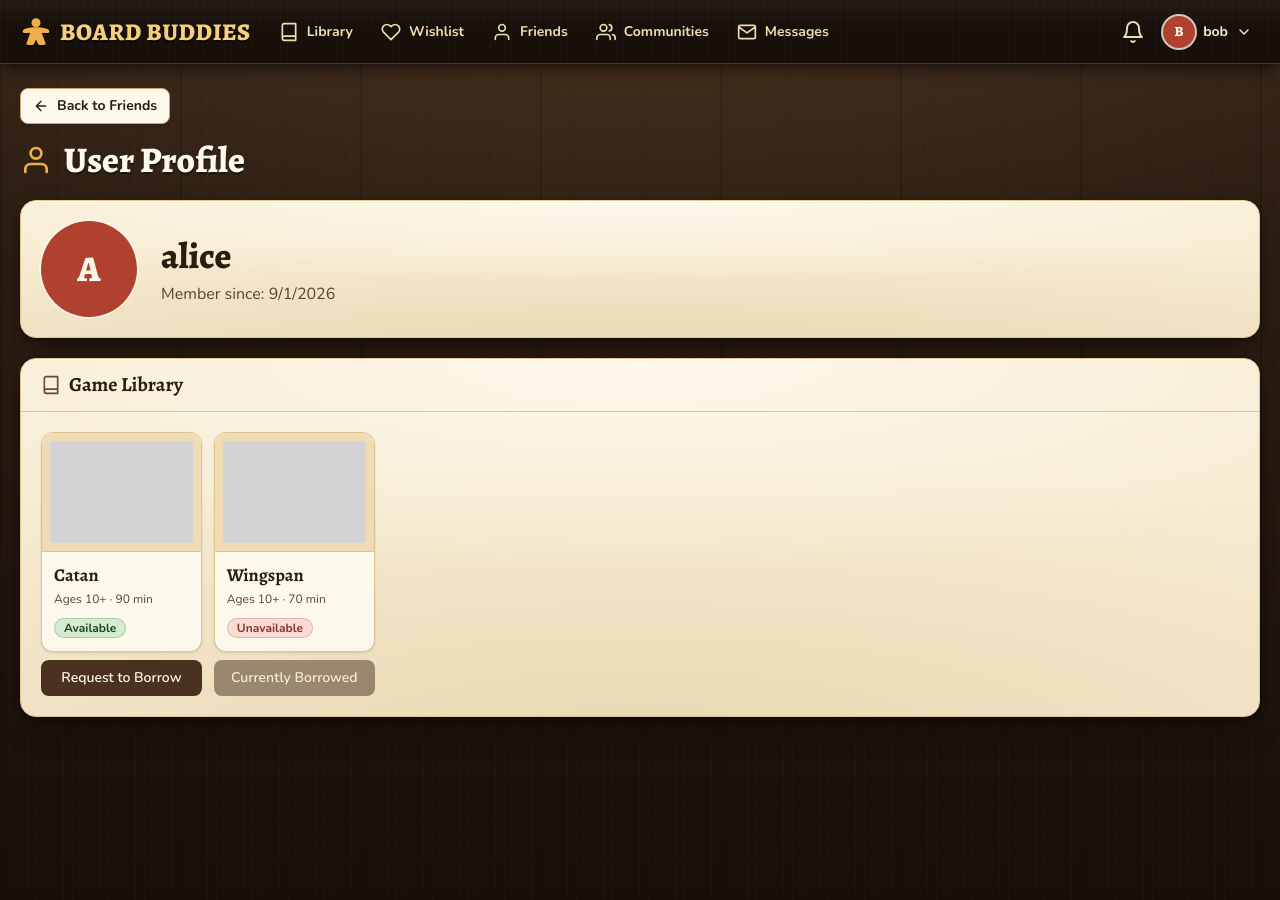
Test: Viewing a friend's library › tells the user when someone else borrowed the game first
The image size is (1280, 900).
Click the button "Request to Borrow" at (121, 678), box [41,660,202,696]
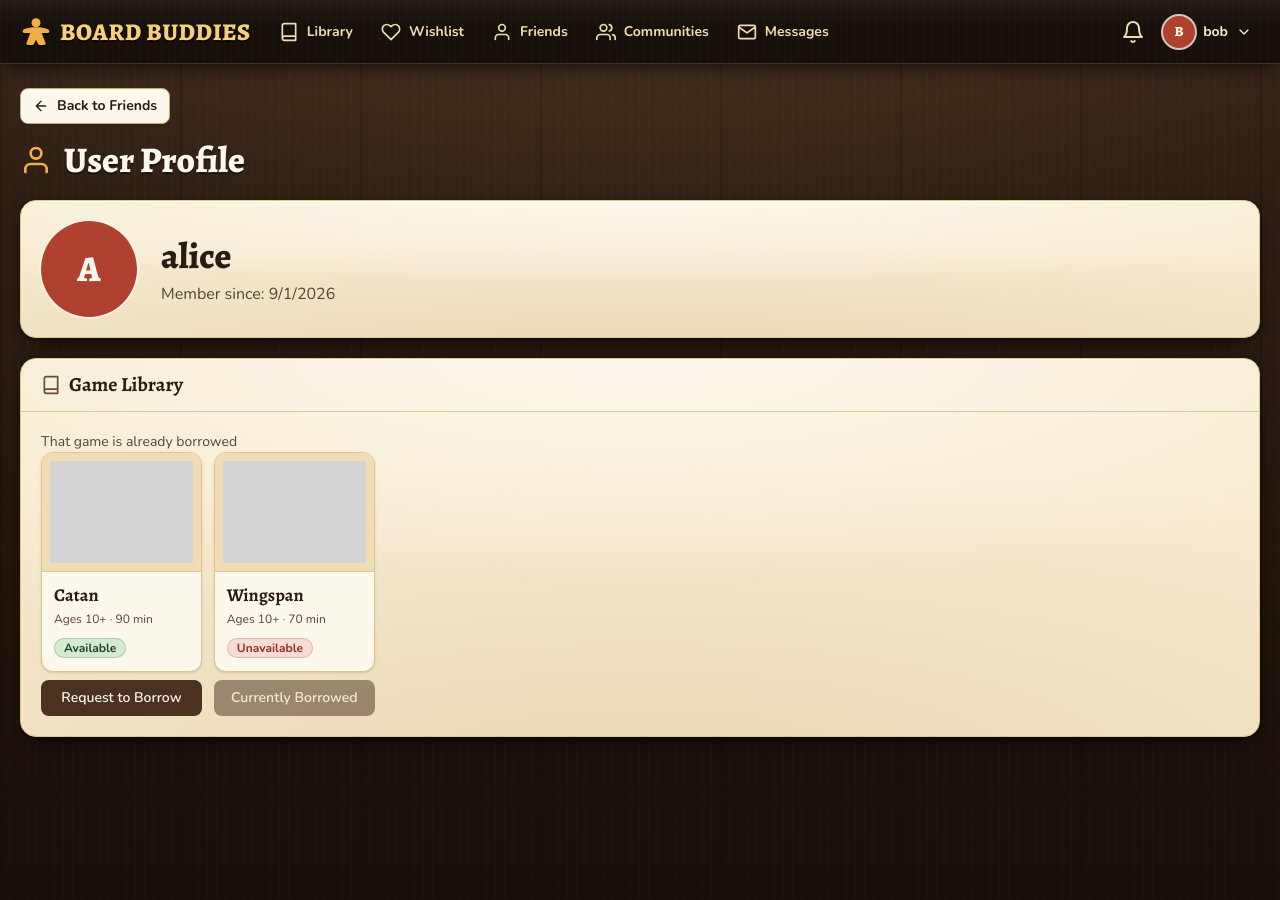
Expected: the text "That game is already borrowed" is shown, [41,432,237,451]
